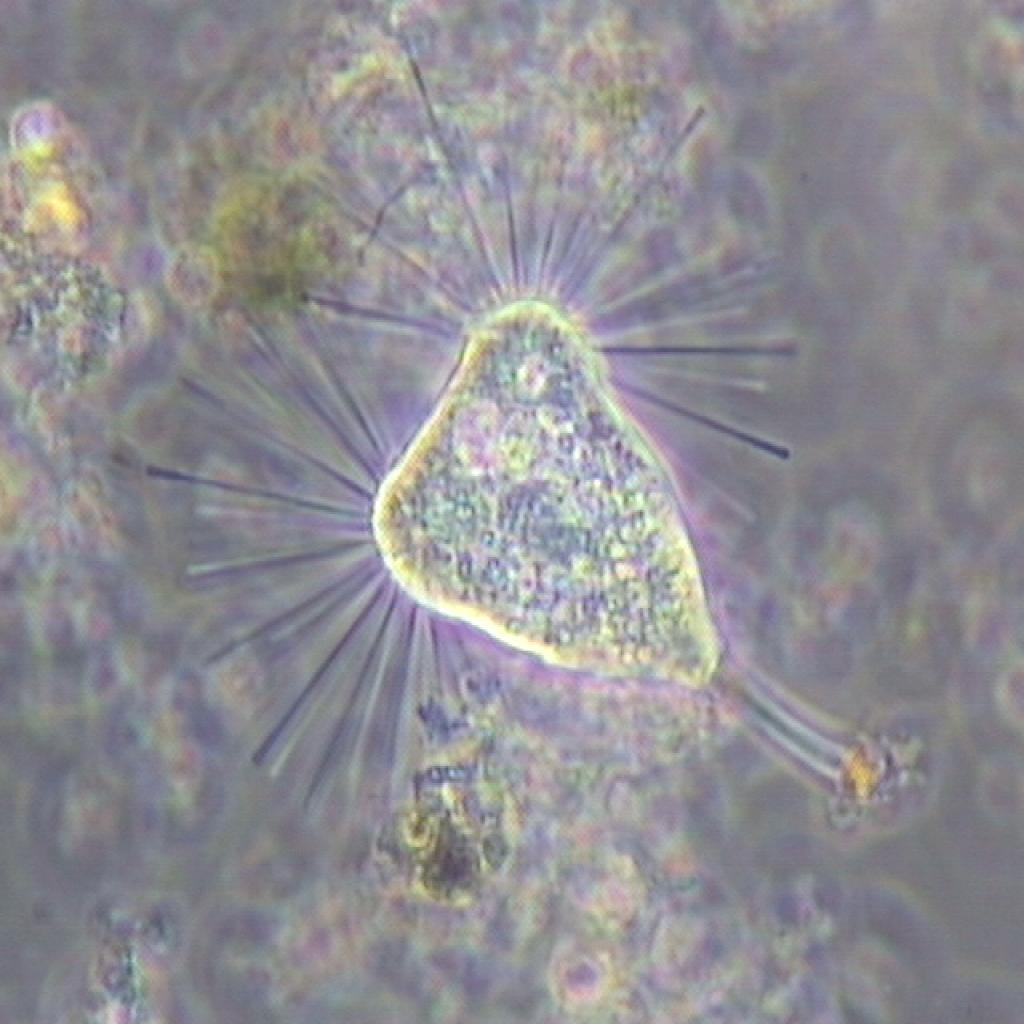Suctorida: (176, 88, 898, 874)
